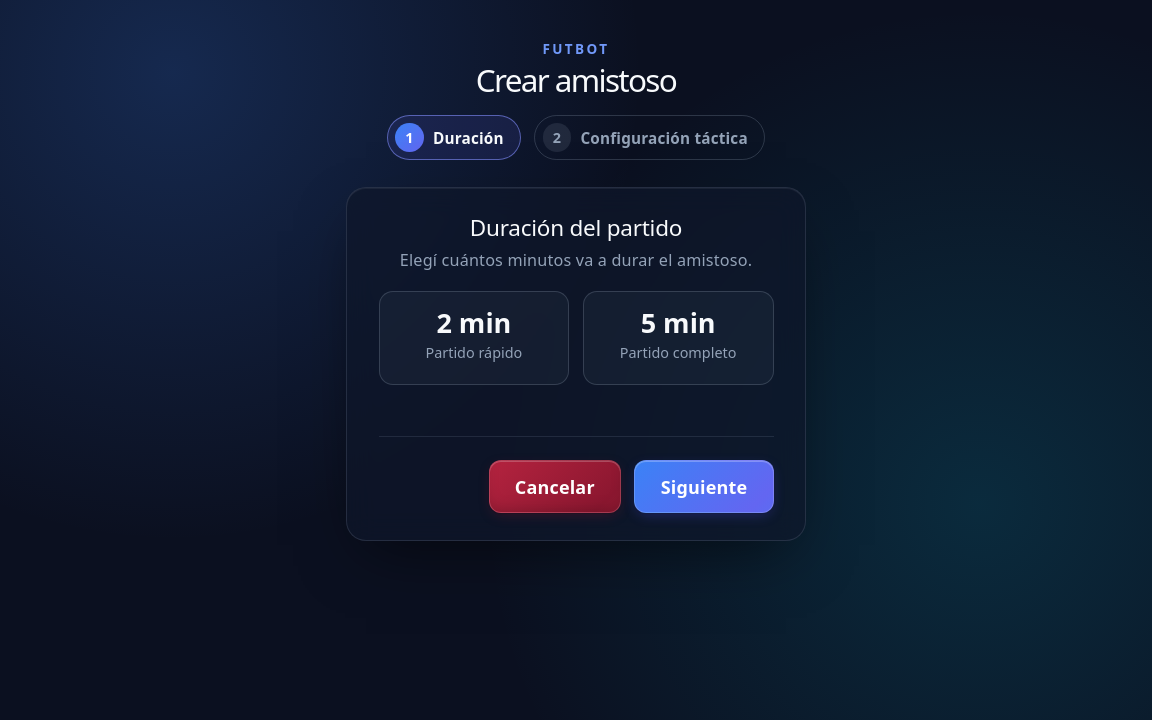
CreateFriendlyPage › Paso 1: duración › Debería marcar la duración elegida
Click the radio button labelled "2 min Partido rápido". click: (474, 338)
box: [378,291,569,385]
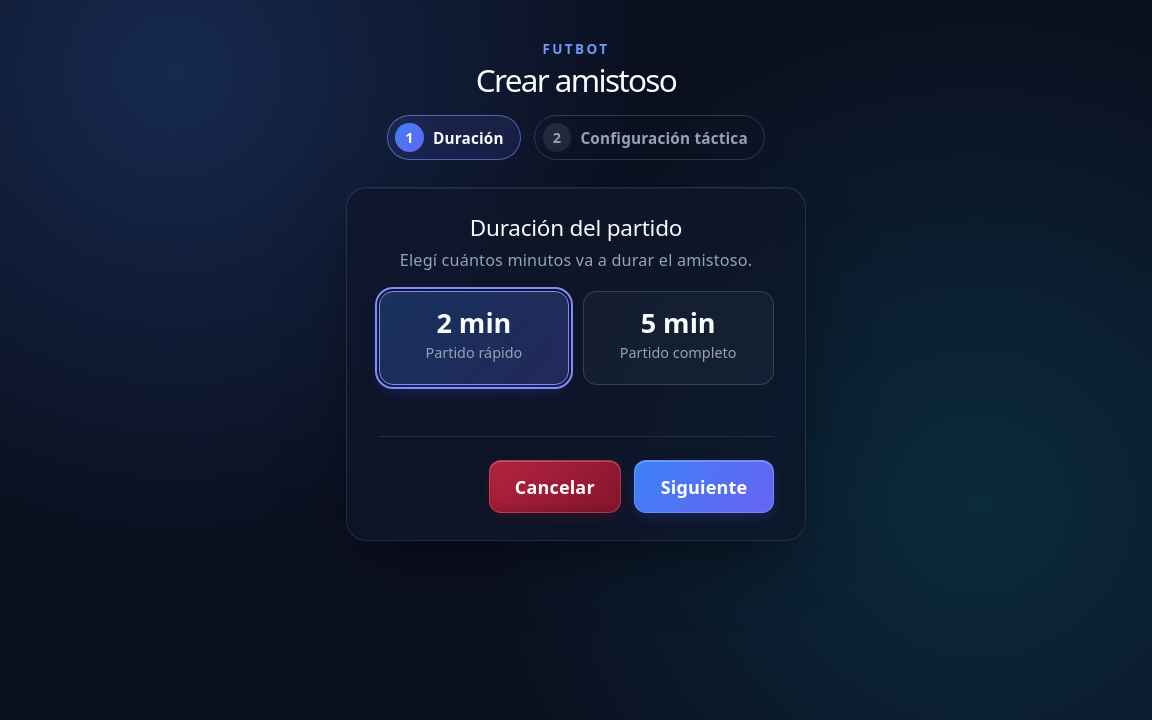
Expected: the radio button labelled "2 min Partido rápido" is checked, [378,291,569,385]
